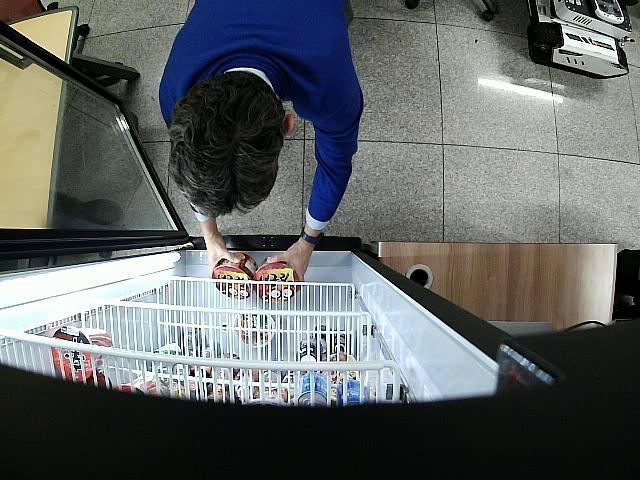05_nuguri_L: (212, 252, 258, 300), (254, 262, 300, 303)
